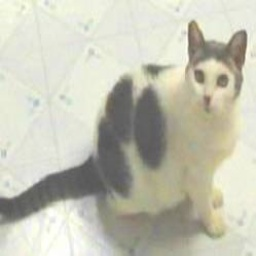cat: (7, 20, 250, 224)
